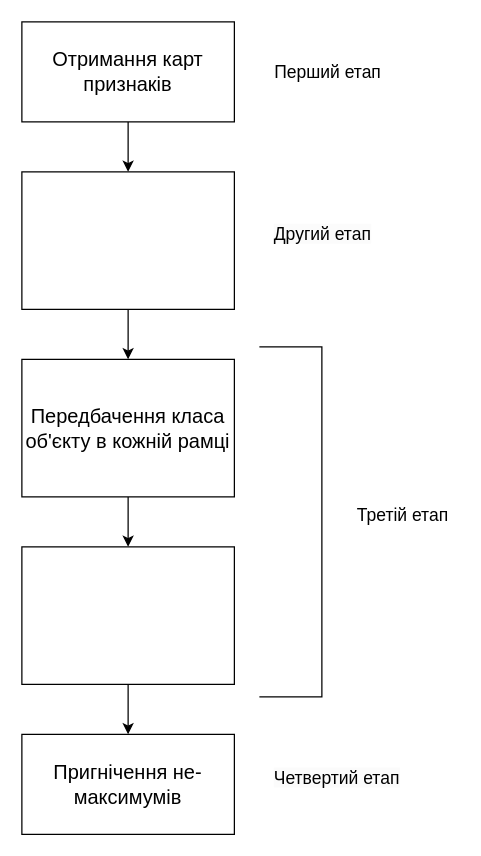
This 481x856 diagram has some shape labels left out. Here are the shapes that lost their labels. From the top down, the centre of each, then its label:
the point at 127,240: Генерація обмежувальних рамок за замовчуванням для кожної карти признаків
the point at 127,615: Передбачення зсувів по кординатам для кожної рамки
